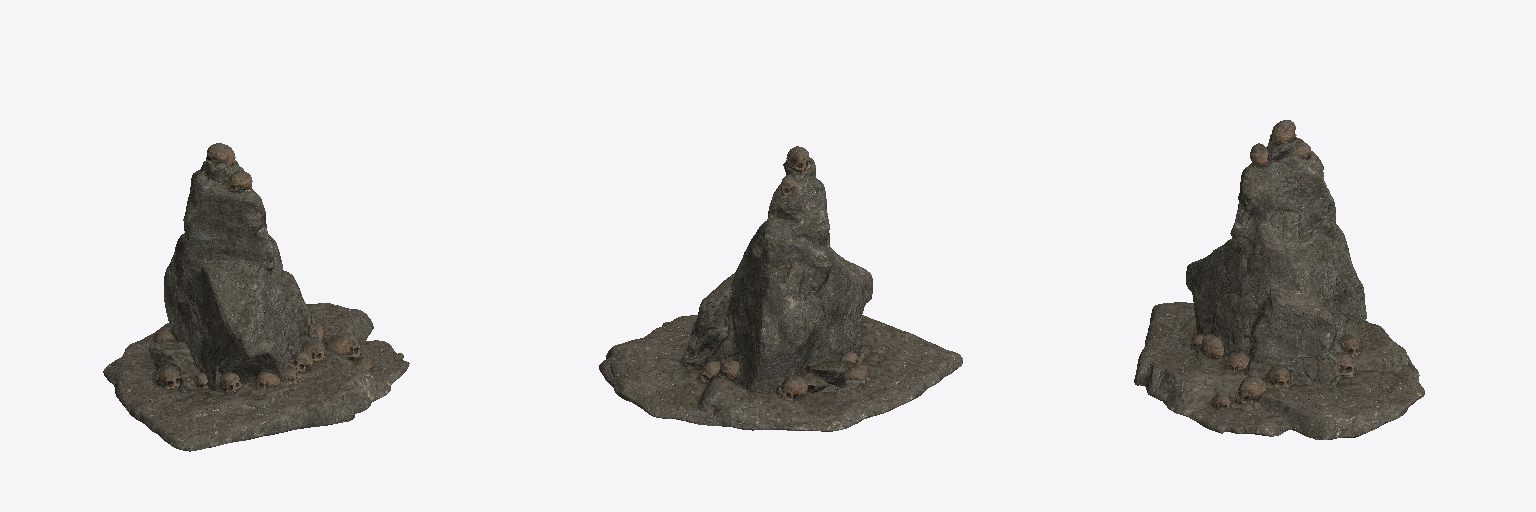
3 renders of one model, left to right at view 1: azimuth 30°, elevation 25°; view 2: azimuth 150°, elevation 25°; view 3: azimuth 270°, elevation 25°, orthographic.
Parts seen in each view (by area): view 1: default; view 2: default; view 3: default.
Part boxes in pixels (left/top/right/bottom): default: left=103, top=143, right=409, bottom=451; default: left=599, top=146, right=962, bottom=431; default: left=1134, top=120, right=1424, bottom=439.
Size of the model in its own units: 845 by 692 by 771.
Materials: 1 (1 with a texture image).